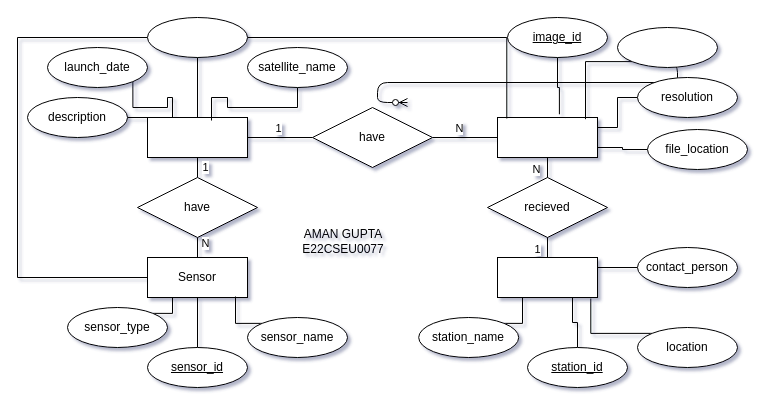
This 771x411 diagram has some shape labels left out. Here are the shapes that lost their labels. From the top down, the box of each, then its label:
(146, 16, 248, 58): satellite_id
(616, 26, 718, 68): capture_date
(146, 116, 248, 158): Satellite
(496, 116, 598, 158): Image
(496, 256, 598, 298): Ground Station
